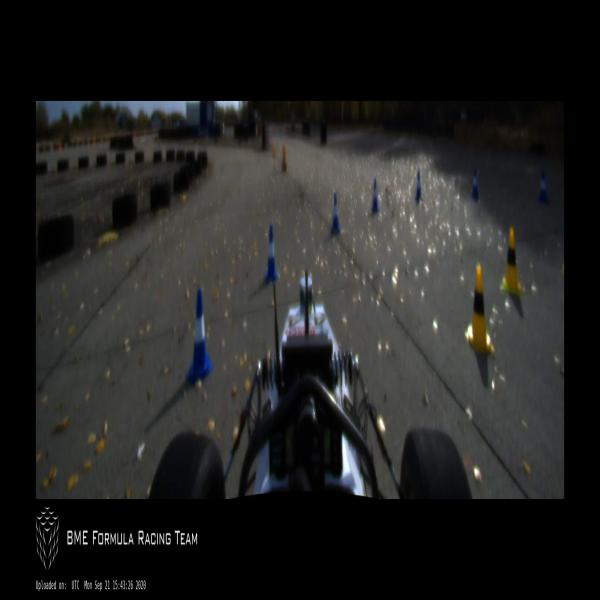blue_cone: (187, 290, 212, 384), (264, 226, 277, 278), (331, 195, 340, 232), (538, 172, 548, 203), (370, 180, 379, 211), (471, 170, 479, 199), (416, 172, 422, 198)
yellow_cone: (468, 265, 491, 352), (502, 227, 522, 297)
